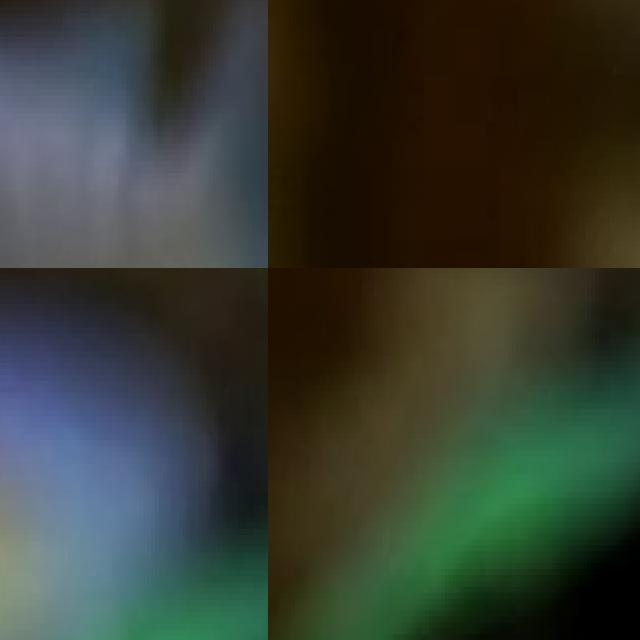fish: (0, 0, 268, 268), (0, 274, 190, 640)
